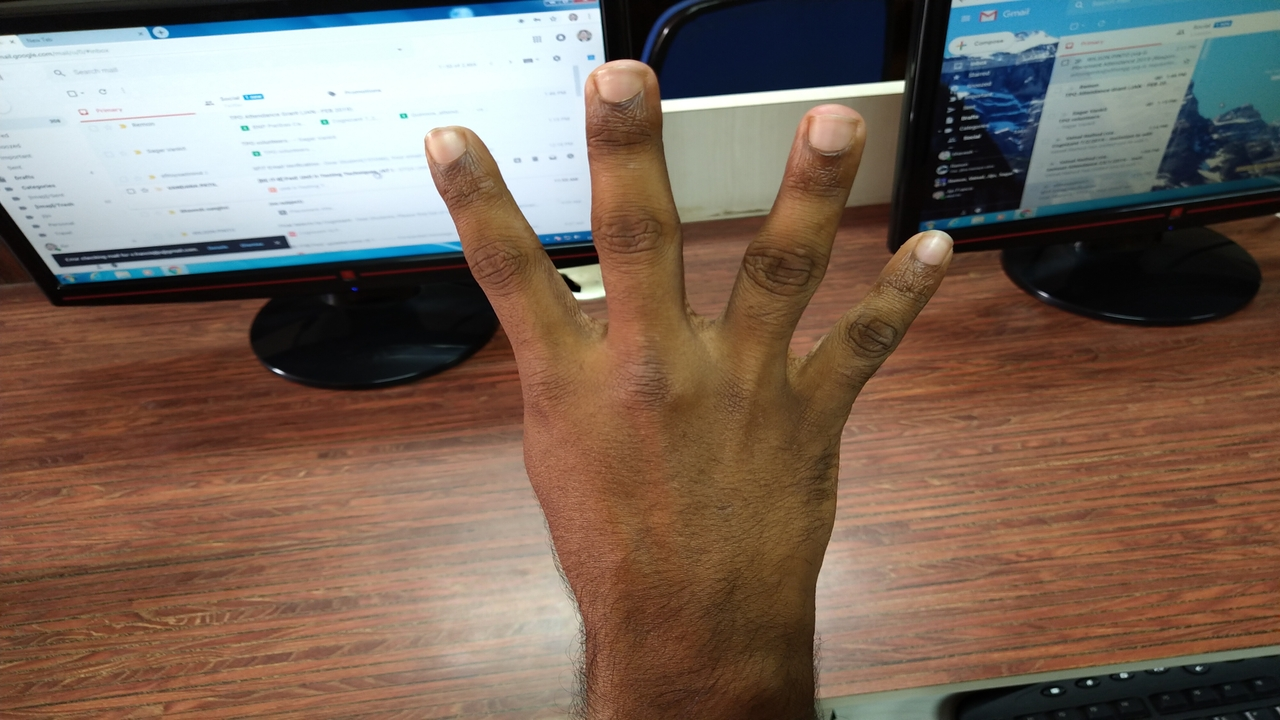fingertip: (568, 48, 660, 124), (788, 100, 872, 172), (410, 124, 476, 178), (906, 220, 968, 274)
